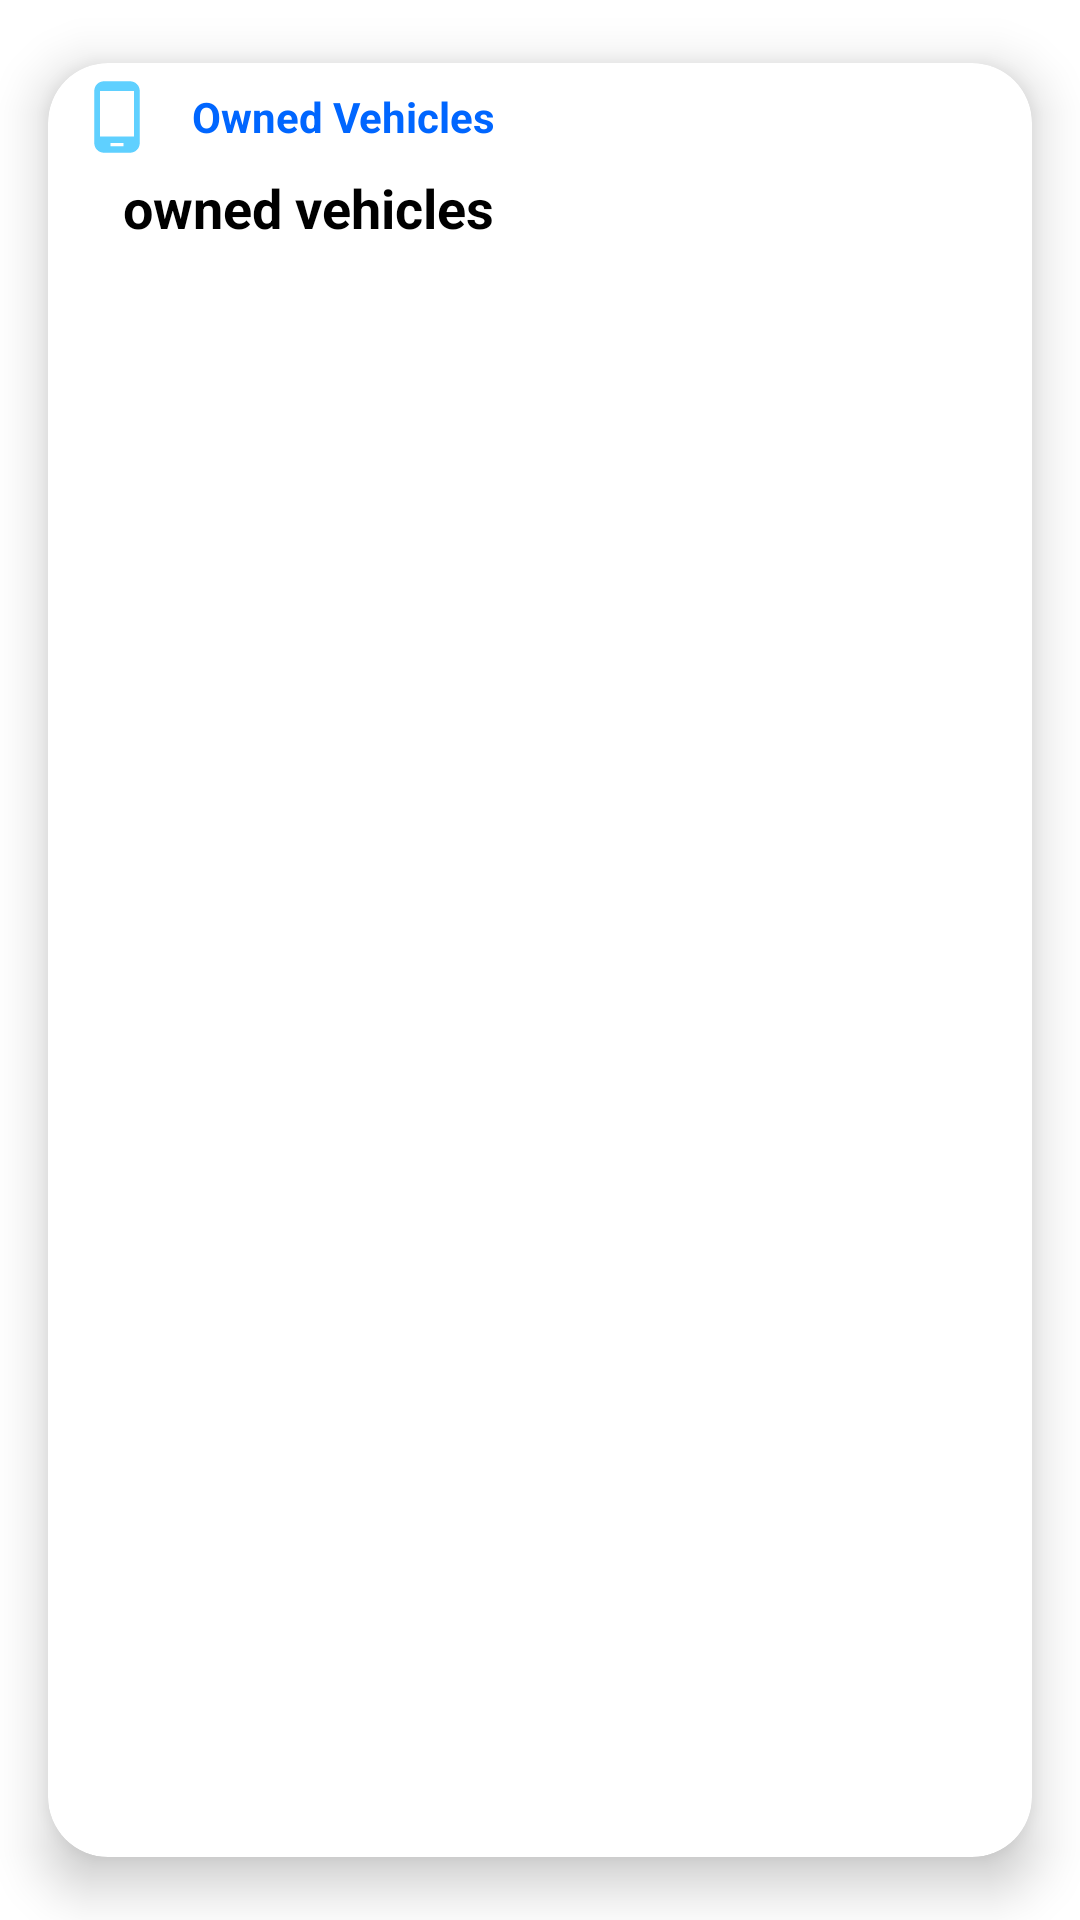

Named icons in this screenshot (1080×1920) and their bounding boxes, (x1, y1, x2, y2):
phone: (94, 81, 140, 153)
